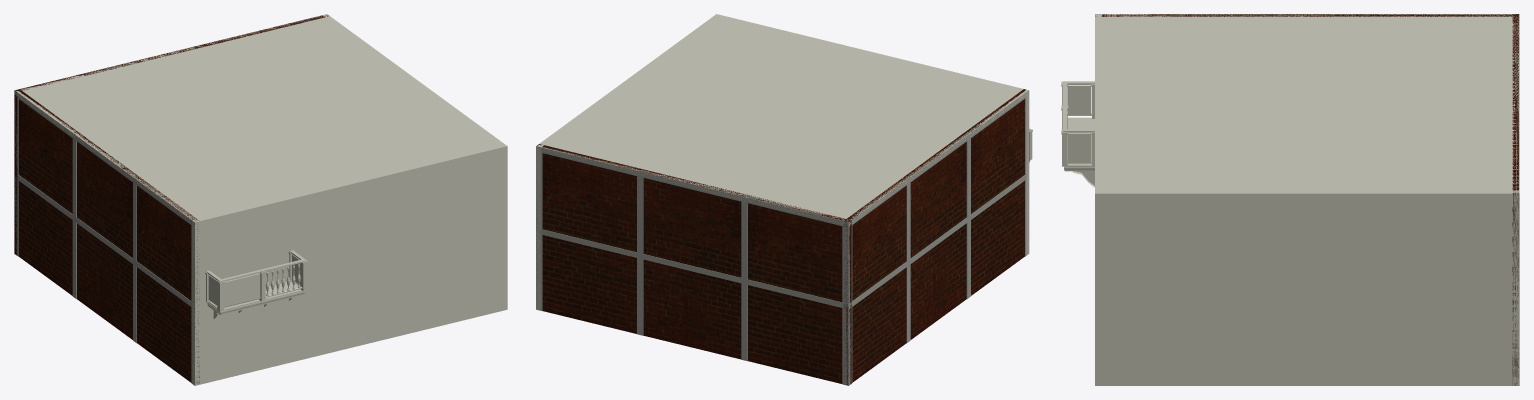
File: building.glb
The picture shows the model from 3 angles, left to right: view 1: azimuth 30°, elevation 25°; view 2: azimuth 150°, elevation 25°; view 3: azimuth 270°, elevation 25°; orthographic projection. The views are drawn at different scales.
Parts seen in each view (by area): view 1: roof/house:0/roof_slab#0001, house:0/edge0/z0/house:0/edge0/z0/wall_0_0, house:0/edge3/z0/house:0/edge3/z0/wall_0_0, house:0/edge2/z0/house:0/edge2/z0/wall_0_0, house:0/edge1/z0/house:0/edge1/z0/wall_0_0, house:0/edge3/z0/house:0/edge3/z0/beam_0_0, house:0/edge3/z0/house:0/edge3/z0/beam_1_0, balcony/sample/balcony_panel#0002, balcony/sample/balcony_platform#0001, balcony/sample/balcony_handrail#0001, balcony/sample/balcony_fascia#0001; view 2: roof/house:0/roof_slab#0001, house:0/edge2/z0/house:0/edge2/z0/wall_0_0, house:0/edge3/z0/house:0/edge3/z0/wall_0_0, house:0/edge2/z0/house:0/edge2/z0/beam_0_0, house:0/edge1/z0/house:0/edge1/z0/wall_0_0, house:0/edge2/z0/house:0/edge2/z0/beam_1_0, house:0/edge0/z0/house:0/edge0/z0/wall_0_0, house:0/edge3/z0/house:0/edge3/z0/beam_0_0, house:0/edge3/z0/house:0/edge3/z0/beam_1_0, house:0/edge2/z0/house:0/edge2/z0/column_1_1, house:0/edge2/z0/house:0/edge2/z0/column_2_0, house:0/edge2/z0/house:0/edge2/z0/column_2_1 (+3 smaller); view 3: house:0/edge1/z0/house:0/edge1/z0/wall_0_0, roof/house:0/roof_slab#0001, house:0/edge0/z0/house:0/edge0/z0/wall_0_0, house:0/edge2/z0/house:0/edge2/z0/wall_0_0, house:0/edge3/z0/house:0/edge3/z0/wall_0_0, balcony/sample/balcony_panel#0001, balcony/sample/balcony_panel#0003, balcony/sample/balcony_platform#0001, balcony/sample/balcony_handrail#0001.
Part boxes in pixels (x1,y1,x2,y2): roof/house:0/roof_slab#0001: (14, 16, 507, 224); house:0/edge0/z0/house:0/edge0/z0/wall_0_0: (192, 144, 507, 385); house:0/edge3/z0/house:0/edge3/z0/wall_0_0: (18, 89, 199, 383); house:0/edge2/z0/house:0/edge2/z0/wall_0_0: (14, 15, 328, 255); house:0/edge1/z0/house:0/edge1/z0/wall_0_0: (322, 14, 507, 310); house:0/edge3/z0/house:0/edge3/z0/beam_0_0: (14, 172, 194, 309); house:0/edge3/z0/house:0/edge3/z0/beam_1_0: (14, 90, 194, 225); balcony/sample/balcony_panel#0002: (224, 273, 260, 307); balcony/sample/balcony_platform#0001: (208, 281, 302, 310); balcony/sample/balcony_handrail#0001: (206, 250, 306, 281); balcony/sample/balcony_fascia#0001: (207, 291, 304, 315); roof/house:0/roof_slab#0001: (536, 14, 1028, 225); house:0/edge2/z0/house:0/edge2/z0/wall_0_0: (537, 144, 851, 384); house:0/edge3/z0/house:0/edge3/z0/wall_0_0: (843, 89, 1025, 385); house:0/edge2/z0/house:0/edge2/z0/beam_0_0: (536, 228, 848, 309); house:0/edge1/z0/house:0/edge1/z0/wall_0_0: (536, 15, 720, 310); house:0/edge2/z0/house:0/edge2/z0/beam_1_0: (536, 146, 848, 227); house:0/edge0/z0/house:0/edge0/z0/wall_0_0: (714, 14, 1029, 255); house:0/edge3/z0/house:0/edge3/z0/beam_0_0: (848, 173, 1028, 309); house:0/edge3/z0/house:0/edge3/z0/beam_1_0: (848, 90, 1028, 227); house:0/edge2/z0/house:0/edge2/z0/column_1_1: (842, 226, 848, 303); house:0/edge2/z0/house:0/edge2/z0/column_2_0: (637, 176, 643, 253); house:0/edge2/z0/house:0/edge2/z0/column_2_1: (637, 258, 643, 335); house:0/edge1/z0/house:0/edge1/z0/wall_0_0: (1095, 190, 1519, 385); roof/house:0/roof_slab#0001: (1095, 14, 1519, 197); house:0/edge0/z0/house:0/edge0/z0/wall_0_0: (1095, 14, 1101, 385); house:0/edge2/z0/house:0/edge2/z0/wall_0_0: (1512, 14, 1518, 385); house:0/edge3/z0/house:0/edge3/z0/wall_0_0: (1095, 14, 1512, 16); balcony/sample/balcony_panel#0001: (1068, 85, 1091, 114); balcony/sample/balcony_panel#0003: (1068, 133, 1091, 162); balcony/sample/balcony_platform#0001: (1065, 117, 1094, 166); balcony/sample/balcony_handrail#0001: (1062, 81, 1094, 132).
Size of the model in its own units: 12 by 6 by 12.95.
3 materials, 1 textured.
